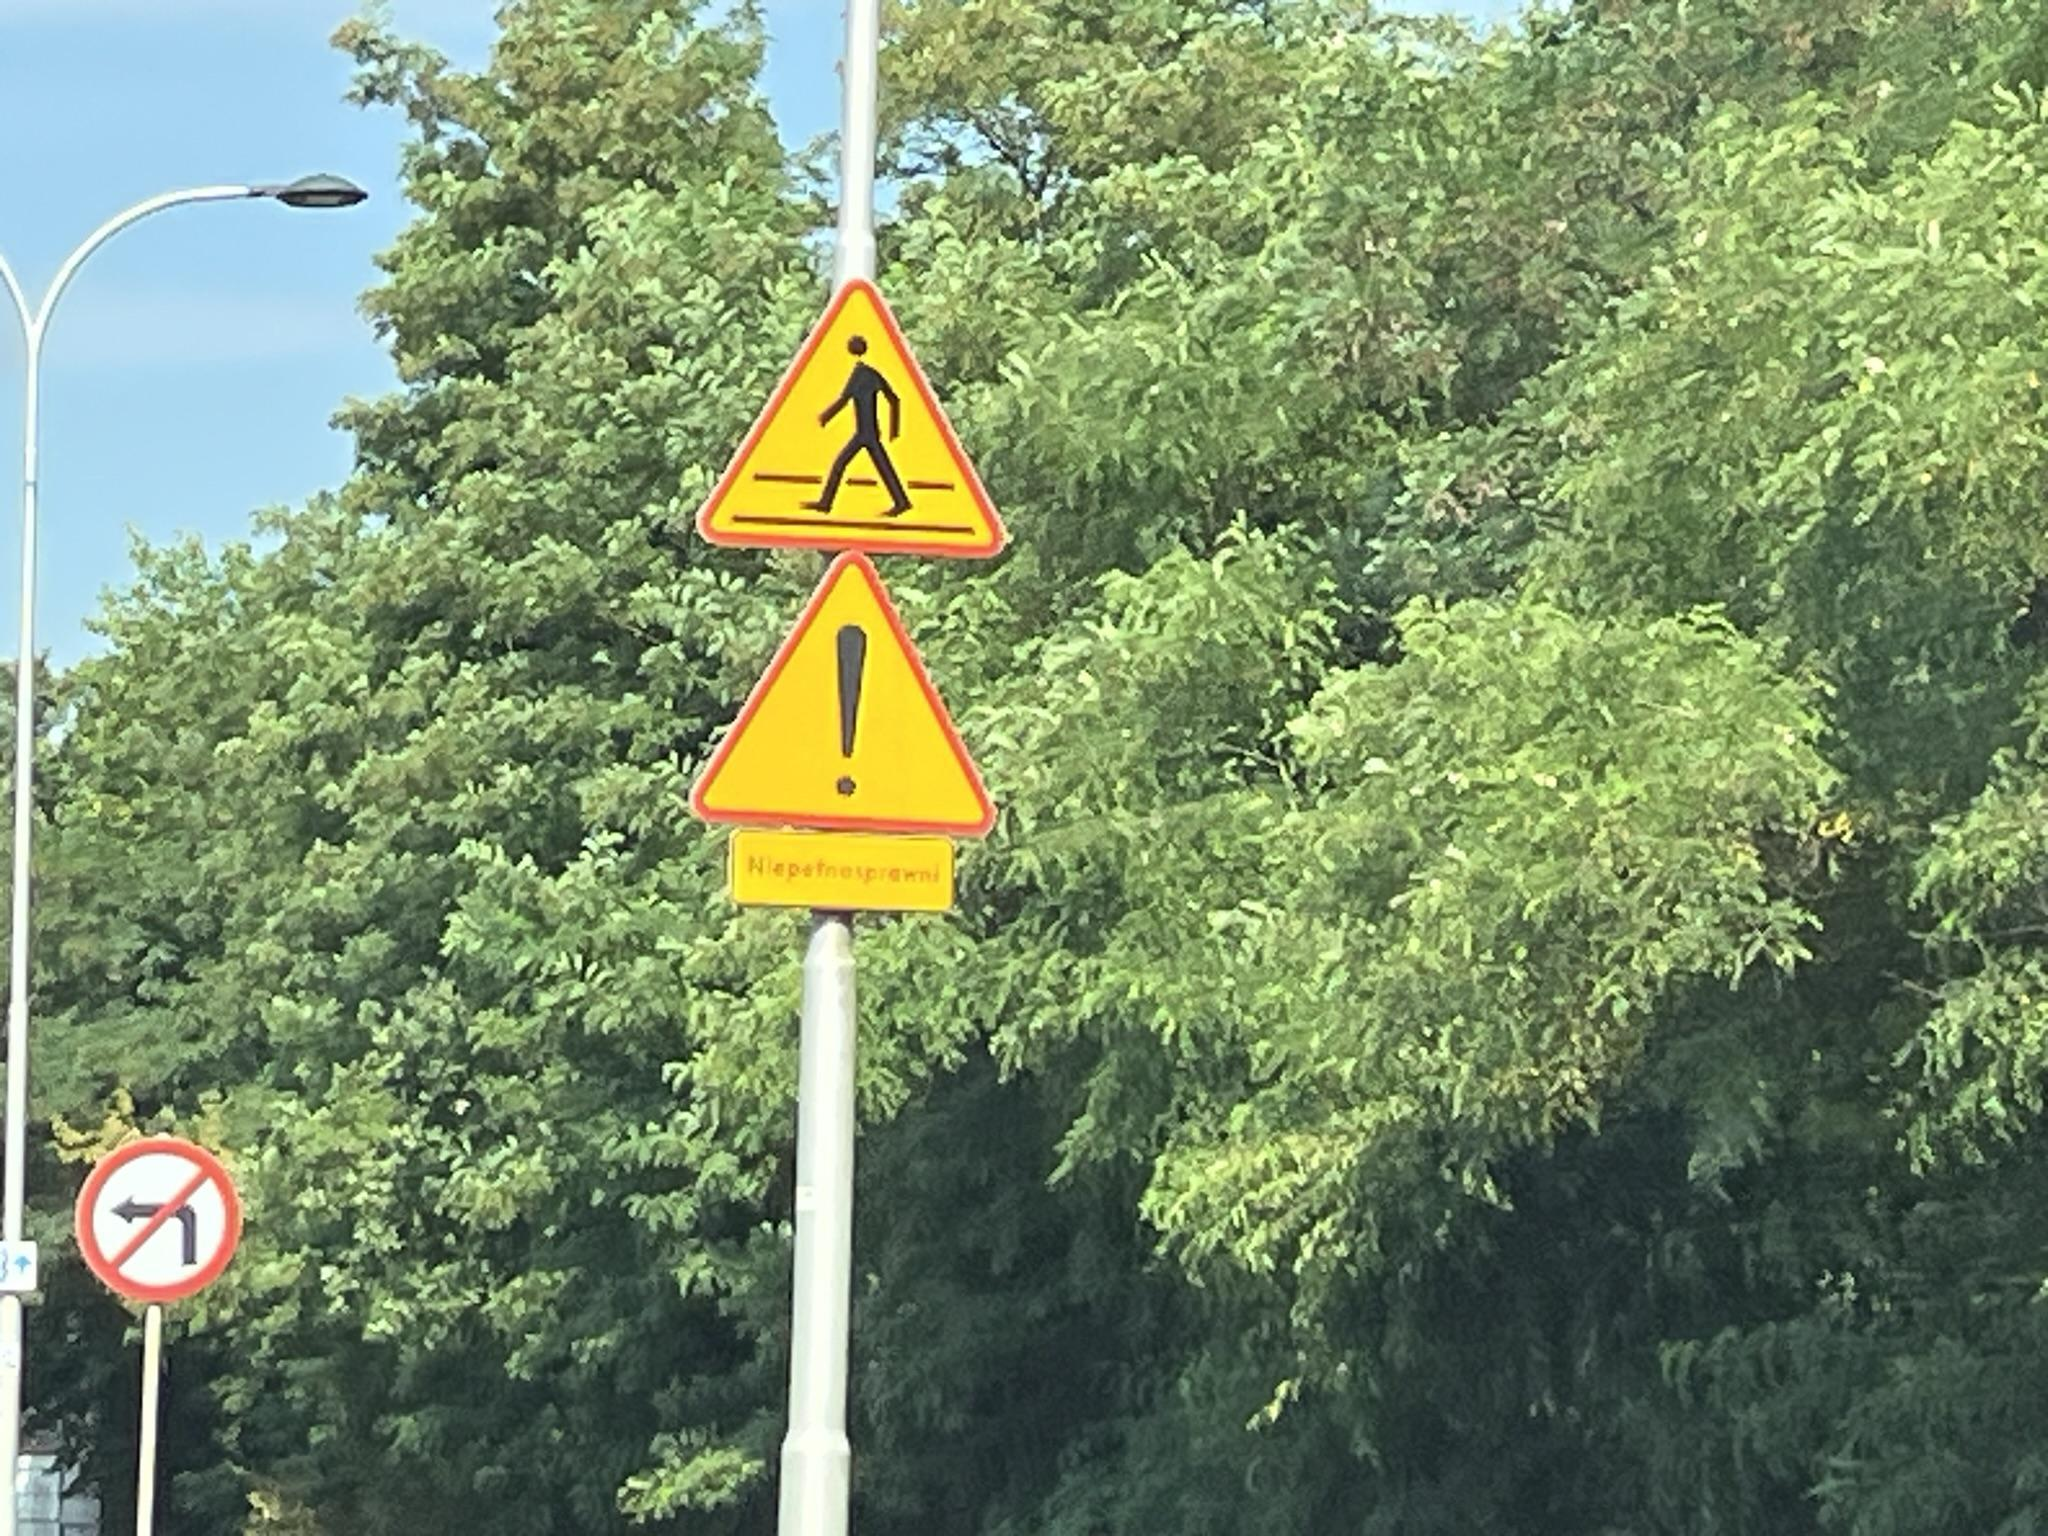other: (722, 828, 958, 910)
prohibitory: (73, 1133, 244, 1305)
warning: (692, 269, 1013, 558), (690, 550, 1000, 834)
